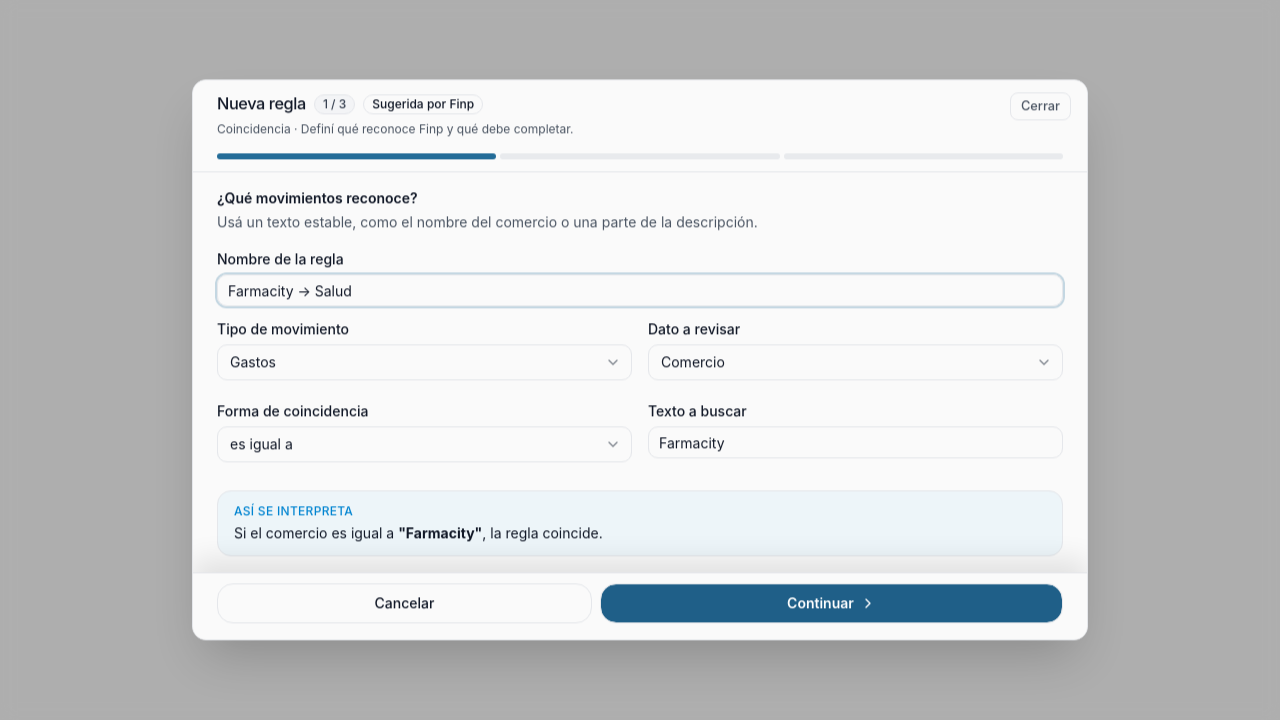
Test case: TransactionRuleDialog simulation › prefills a suggestion and guides the user through the three decisions
Expected: the field showing "Farmacity → Salud" is shown, [217,275,1063,307]
Expected: the text "Sugerida por Finp" is shown, [363,94,483,114]
Step 1. Click the button "Continuar" → (831, 604), box [600,584,1063,624]
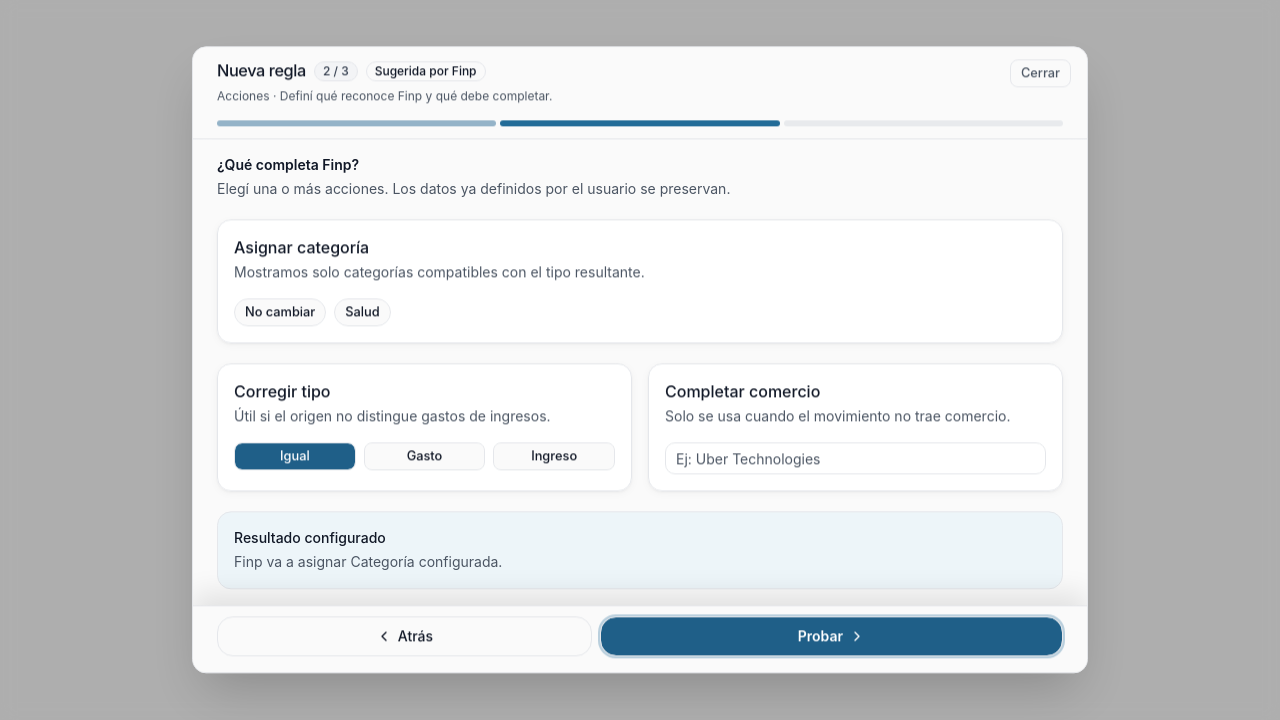
Now the heading "¿Qué completa Finp?" is shown, box [217,157,359,174]
Now the button "Salud" is shown, box [334,299,391,327]
Step 2. Click the button "Probar" → (831, 637), box [600,617,1063,657]
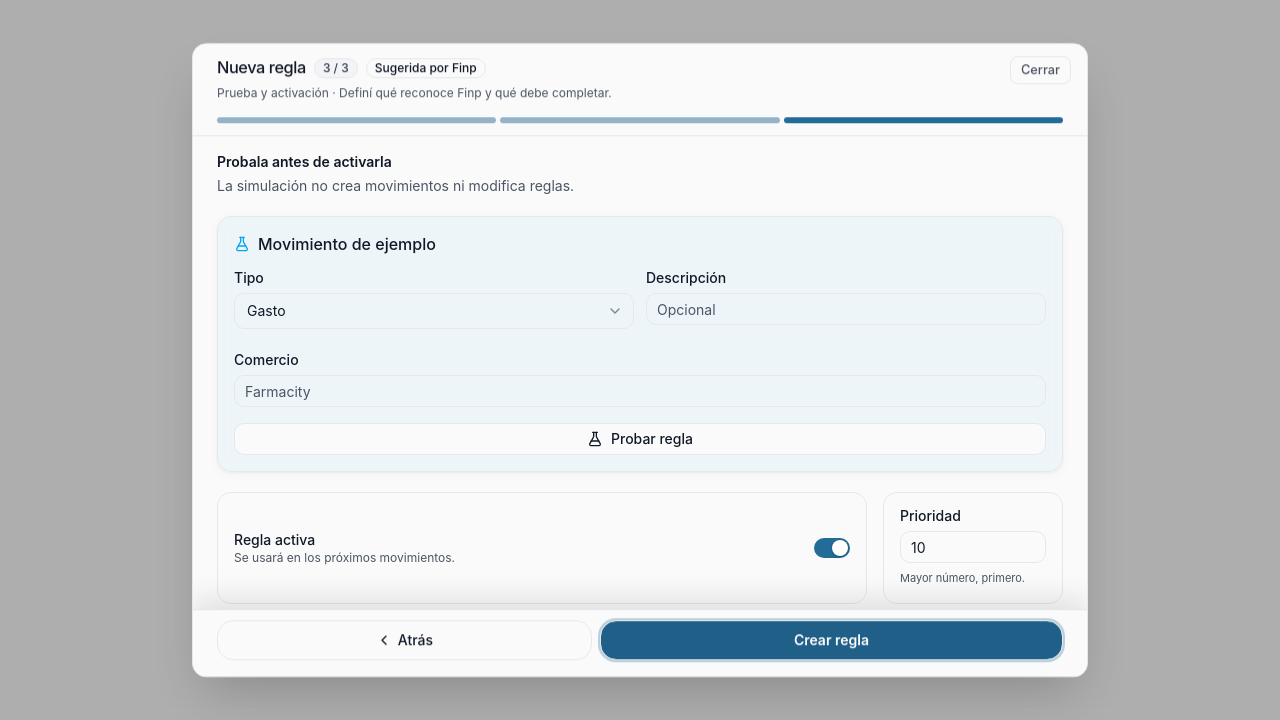
Now the text "Movimiento de ejemplo" is shown, box [234,234,436,254]
